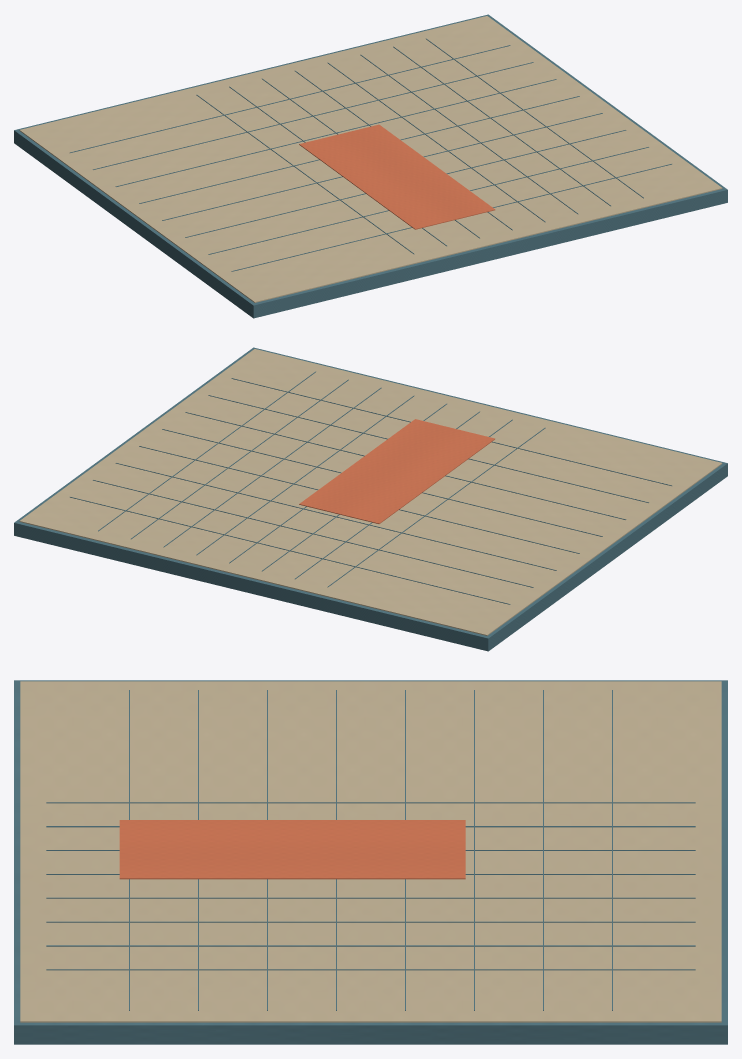
Rendered from atlas100-s041-a07.lod1.glb.
3 renders of one model, top to bottom at view 1: azimuth 30°, elevation 25°; view 2: azimuth 150°, elevation 25°; view 3: azimuth 270°, elevation 25°, orthographic. The views are drawn at different scales.
Visible parts, largest first — view 1: atlas100-s041-a07:part-001, atlas100-s041-a07:part-000, atlas100-s041-a07:part-021, atlas100-s041-a07:part-013, atlas100-s041-a07:part-014, atlas100-s041-a07:part-015, atlas100-s041-a07:part-020, atlas100-s041-a07:part-018, atlas100-s041-a07:part-019, atlas100-s041-a07:part-017, atlas100-s041-a07:part-016; view 2: atlas100-s041-a07:part-001, atlas100-s041-a07:part-000, atlas100-s041-a07:part-021, atlas100-s041-a07:part-013, atlas100-s041-a07:part-014, atlas100-s041-a07:part-015, atlas100-s041-a07:part-019, atlas100-s041-a07:part-020, atlas100-s041-a07:part-016, atlas100-s041-a07:part-018, atlas100-s041-a07:part-017; view 3: atlas100-s041-a07:part-001, atlas100-s041-a07:part-000, atlas100-s041-a07:part-021, atlas100-s041-a07:part-010, atlas100-s041-a07:part-011, atlas100-s041-a07:part-012, atlas100-s041-a07:part-005, atlas100-s041-a07:part-009, atlas100-s041-a07:part-006.
Boxes of the visible parts, box(x1,y1,x2,y2) form: atlas100-s041-a07:part-001: box(19, 16, 722, 302); atlas100-s041-a07:part-000: box(14, 14, 727, 318); atlas100-s041-a07:part-021: box(299, 124, 495, 229); atlas100-s041-a07:part-013: box(70, 45, 510, 152); atlas100-s041-a07:part-014: box(93, 62, 533, 169); atlas100-s041-a07:part-015: box(115, 79, 556, 186); atlas100-s041-a07:part-020: box(231, 164, 671, 271); atlas100-s041-a07:part-018: box(185, 130, 626, 237); atlas100-s041-a07:part-019: box(208, 147, 648, 254); atlas100-s041-a07:part-017: box(162, 113, 602, 220); atlas100-s041-a07:part-016: box(139, 96, 579, 203); atlas100-s041-a07:part-001: box(19, 349, 722, 635); atlas100-s041-a07:part-000: box(14, 347, 727, 651); atlas100-s041-a07:part-021: box(299, 419, 494, 523); atlas100-s041-a07:part-013: box(70, 497, 510, 604); atlas100-s041-a07:part-014: box(93, 480, 533, 587); atlas100-s041-a07:part-015: box(115, 463, 556, 570); atlas100-s041-a07:part-019: box(208, 395, 648, 502); atlas100-s041-a07:part-020: box(231, 378, 671, 485); atlas100-s041-a07:part-016: box(139, 446, 579, 553); atlas100-s041-a07:part-018: box(185, 412, 626, 519); atlas100-s041-a07:part-017: box(162, 429, 602, 536); atlas100-s041-a07:part-001: box(20, 681, 721, 1022); atlas100-s041-a07:part-000: box(14, 680, 727, 1044); atlas100-s041-a07:part-021: box(119, 820, 465, 879); atlas100-s041-a07:part-010: box(46, 921, 695, 922); atlas100-s041-a07:part-011: box(46, 945, 695, 946); atlas100-s041-a07:part-012: box(46, 969, 695, 970); atlas100-s041-a07:part-005: box(46, 802, 695, 803); atlas100-s041-a07:part-009: box(46, 897, 695, 898); atlas100-s041-a07:part-006: box(46, 826, 695, 827).
Bounding box in the file's own units: 13.02 × 0.404 × 11.39.
3 materials, 3 textured.
